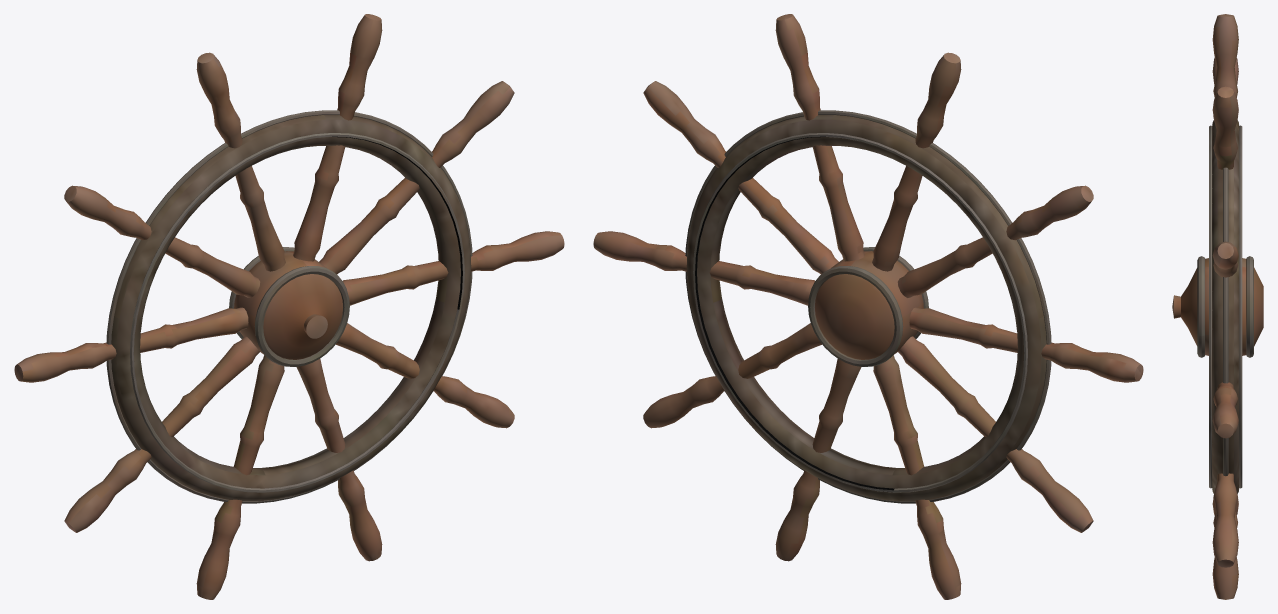
The model's file is wheel.glb.
3 views of the same model, side by side, from view 1: azimuth 30°, elevation 25°; view 2: azimuth 150°, elevation 25°; view 3: azimuth 270°, elevation 25° (orthographic). The views are drawn at different scales.
Visible parts, largest first — view 1: wheel_body; view 2: wheel_body; view 3: wheel_body.
Part boxes in pixels (x1=…): wheel_body: x1=14, y1=14, x2=564, y2=599; wheel_body: x1=593, y1=14, x2=1143, y2=599; wheel_body: x1=1172, y1=14, x2=1263, y2=599.
Bounding box in the file's own units: 1.71 × 1.63 × 0.265.
Materials: 1 (1 with a texture image).
